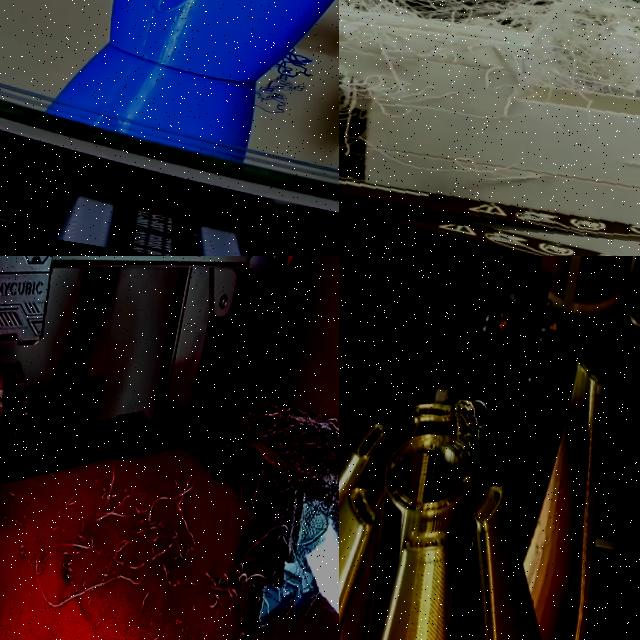spaghetti: (339, 0, 640, 256), (0, 437, 209, 640), (218, 404, 339, 627), (173, 574, 296, 640), (437, 381, 491, 451), (272, 38, 330, 92), (458, 512, 478, 556)
